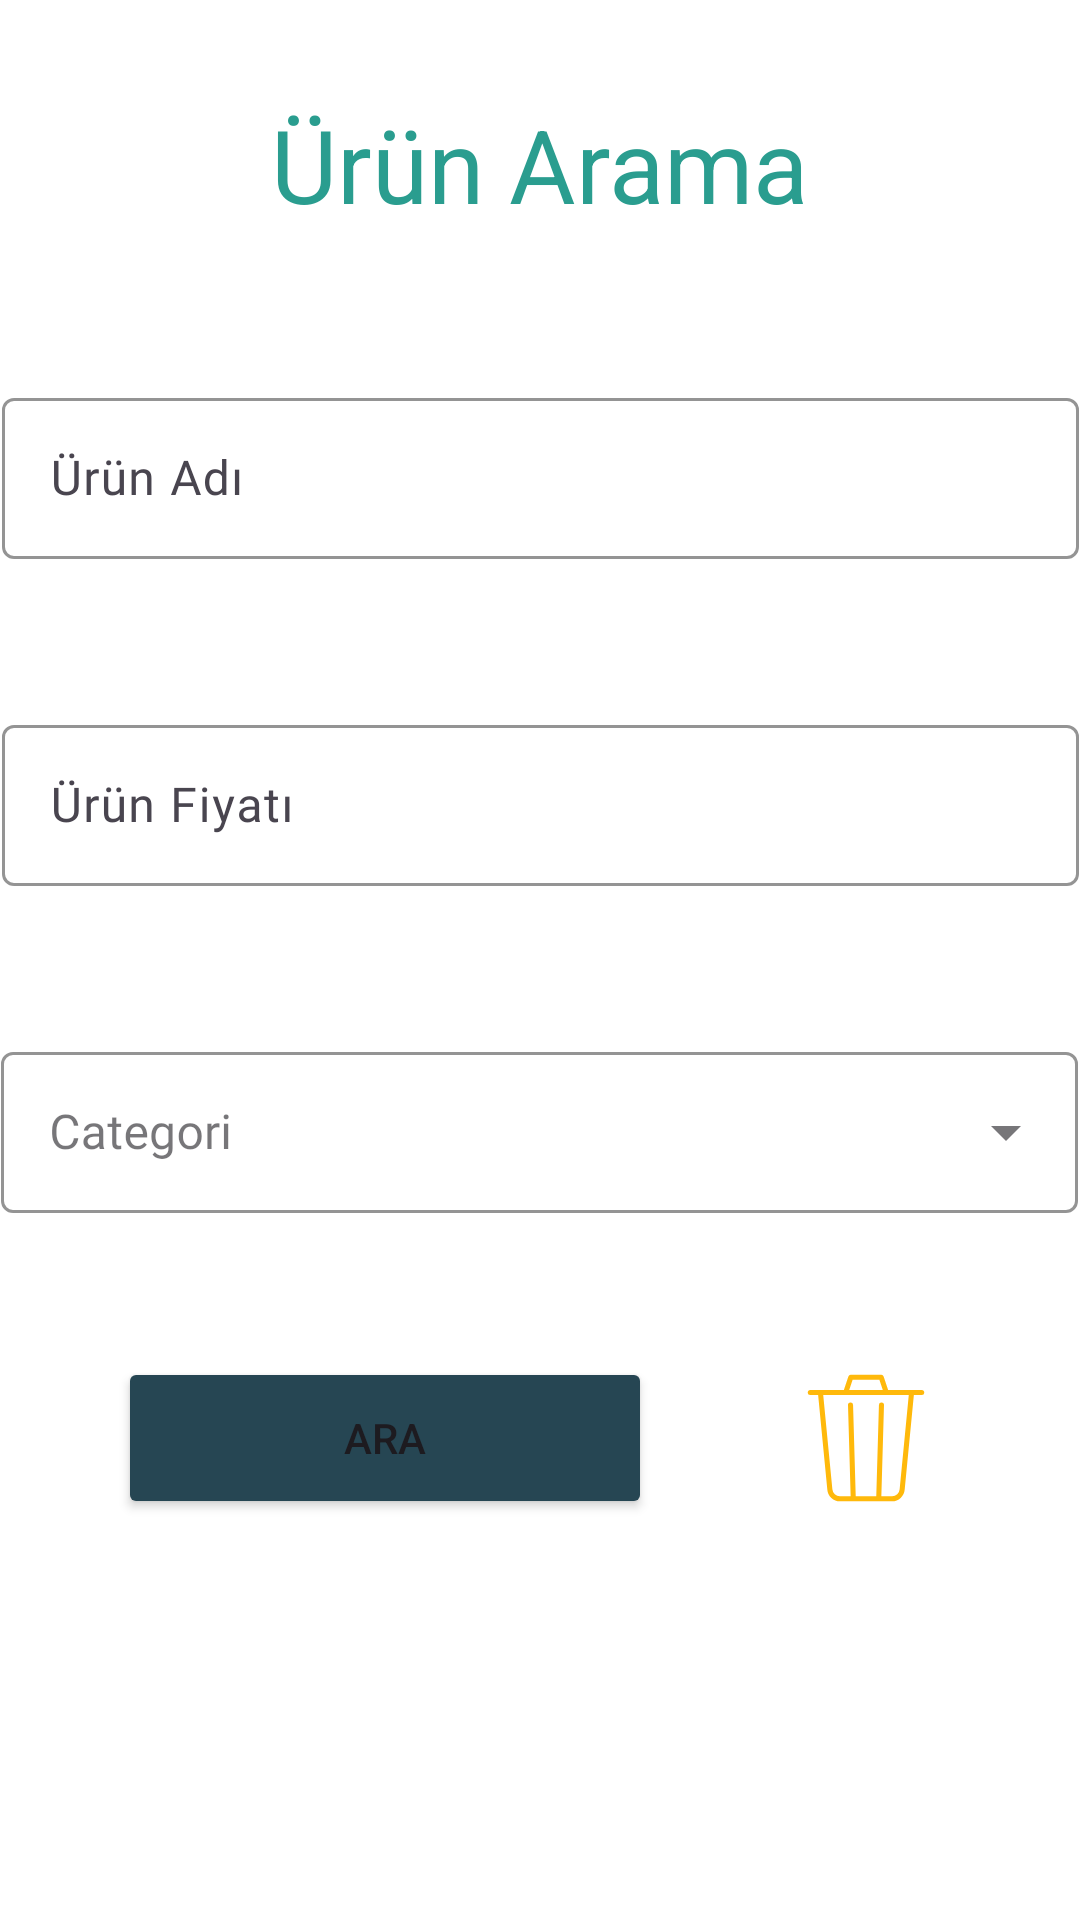

Point at icon controls on the screen. Image size 1080x1920, points as [x,y].
delete: [866,1438]
